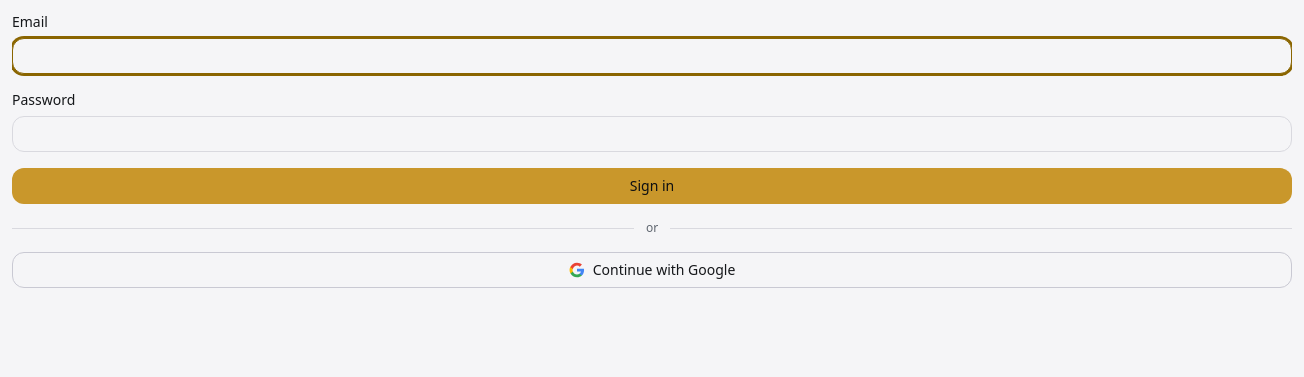
Test: SignInForm › surfaces a normalized auth error
This screenshot has width=1304, height=377.
Step 1. Type "alice@example.com" into the field labelled "Email" → (652, 56), box [12, 38, 1292, 74]
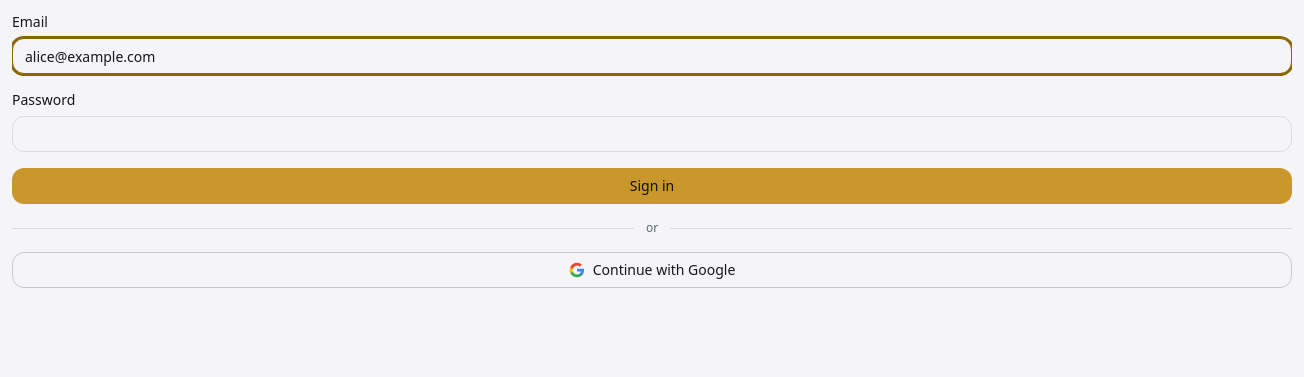
Step 2. Type "wrongpass" into the password field labelled "Password" → (652, 134), box [12, 116, 1292, 152]
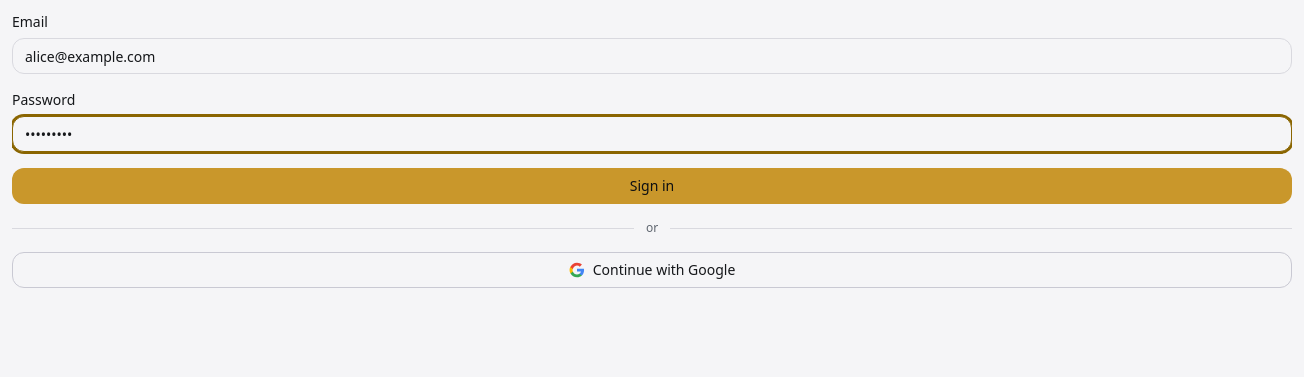
Step 3. Click the button "Sign in" → (652, 186), box [12, 168, 1292, 204]
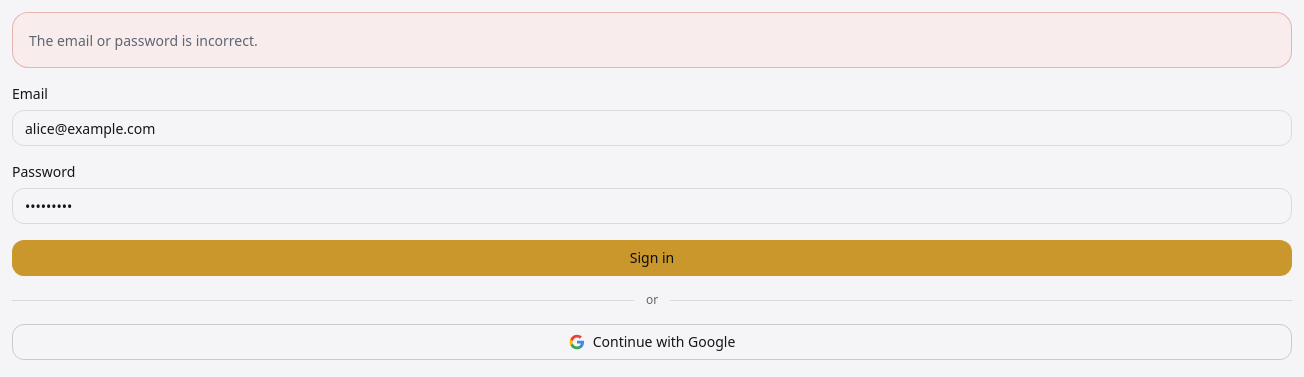
expect the text "The email or password is incorrect." is shown: met, box [29, 31, 258, 51]
